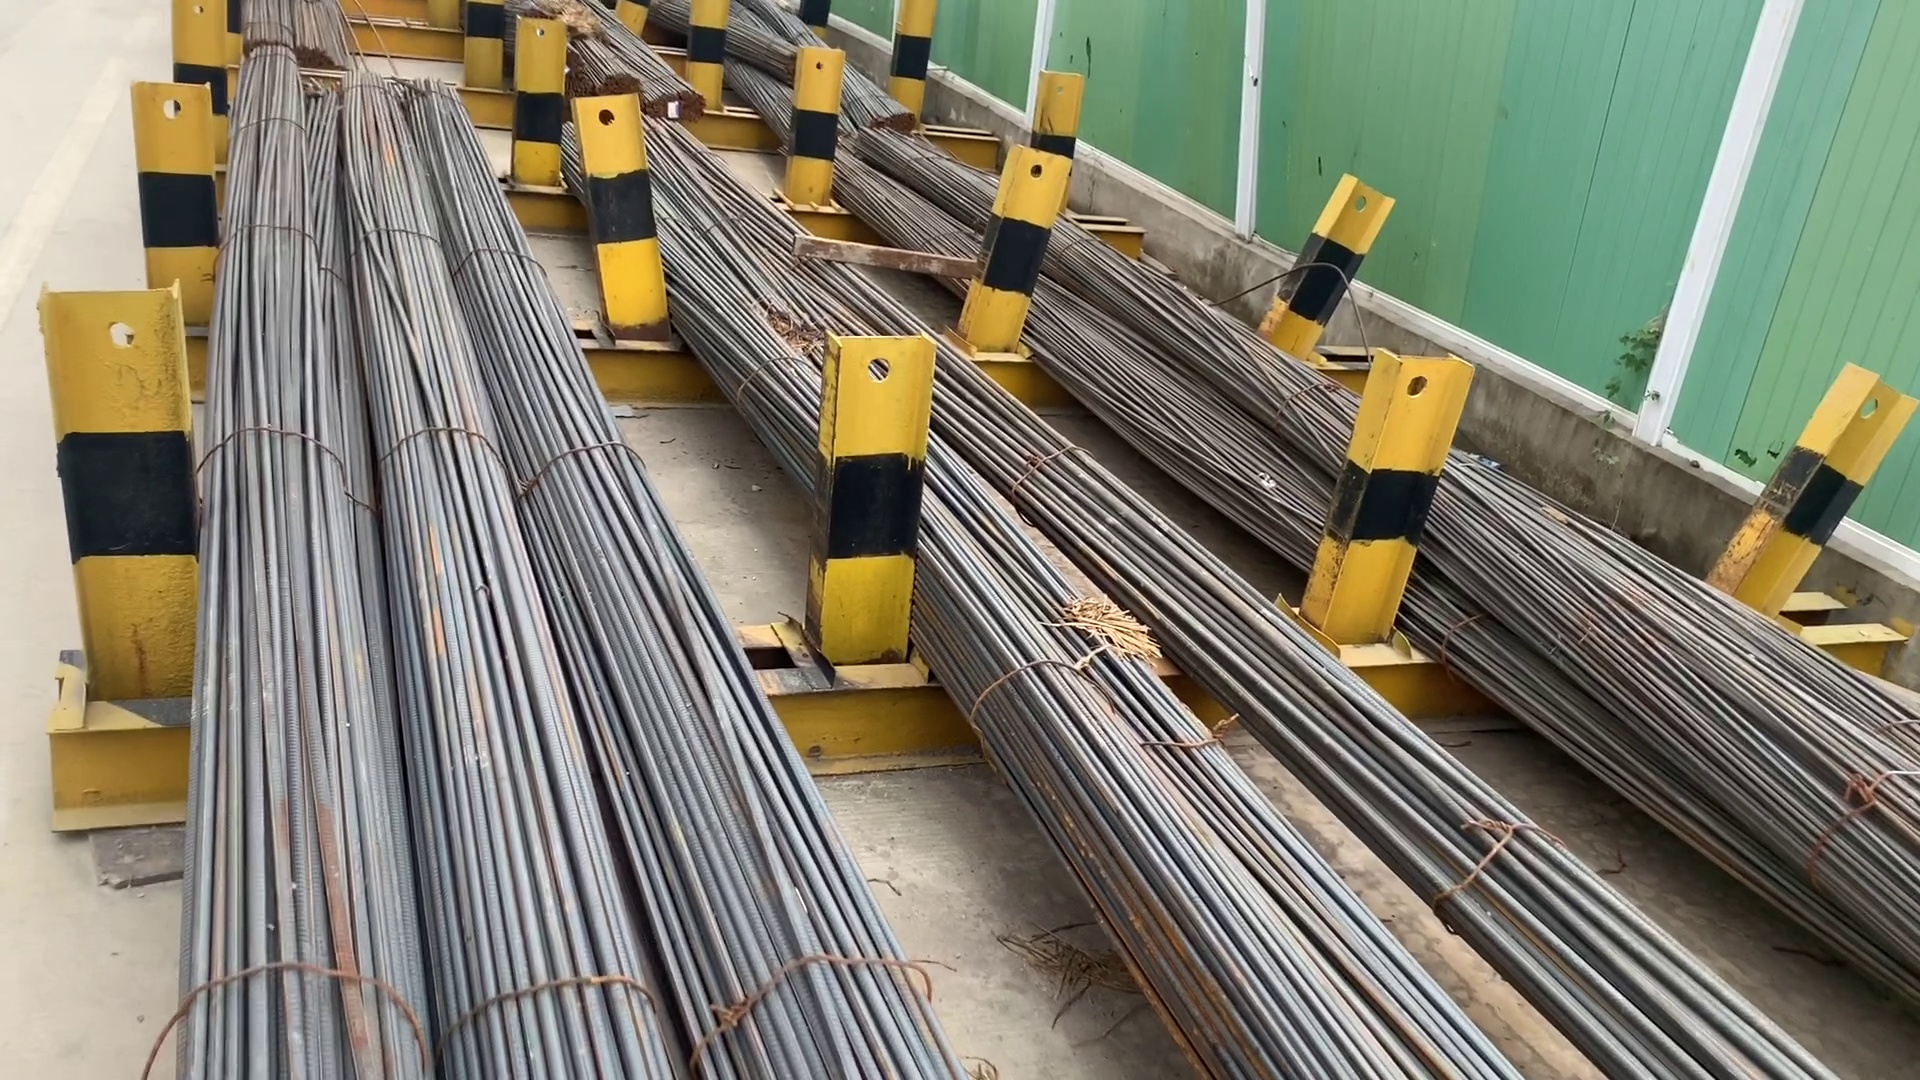rebar: (653, 80, 702, 120), (584, 73, 642, 103), (868, 100, 920, 133), (295, 40, 347, 73)
